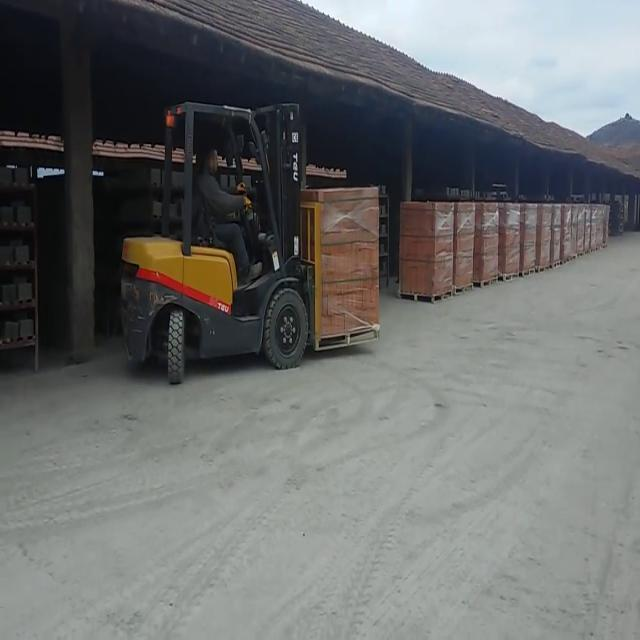forklift: (119, 103, 308, 378)
